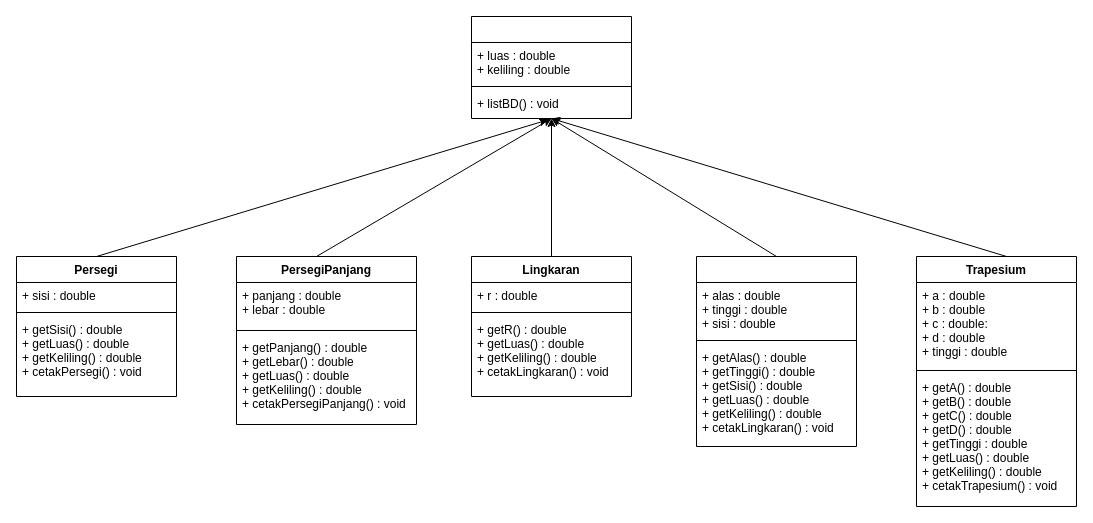
The diagram is 1093 pixels wide and 523 high, and some of its shapes have lost their labels. The box of each missing label's shape, as (x1, y1, x2, y2) in pixels:
BangunDatar: (470, 16, 632, 118)
Segitiga: (696, 256, 856, 446)
